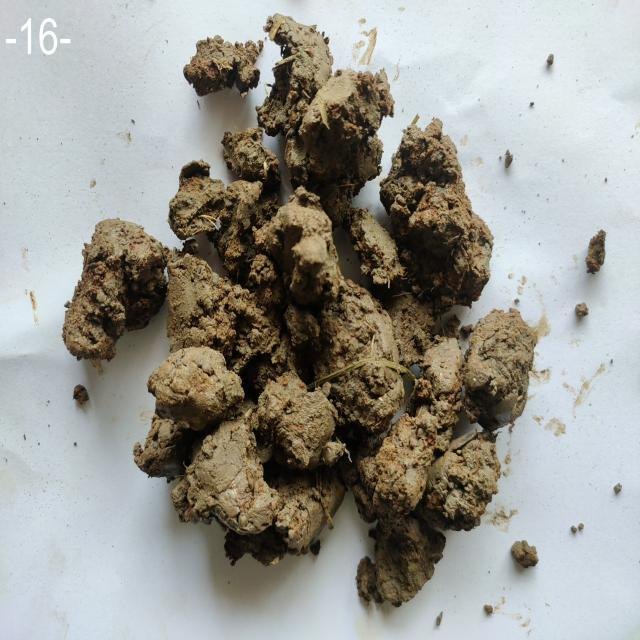soil: (186, 170, 422, 497)
